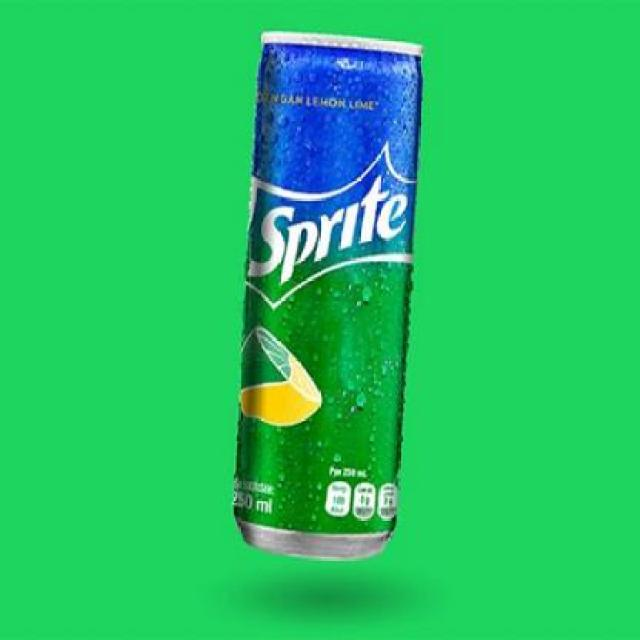Metal: (232, 27, 426, 561)
